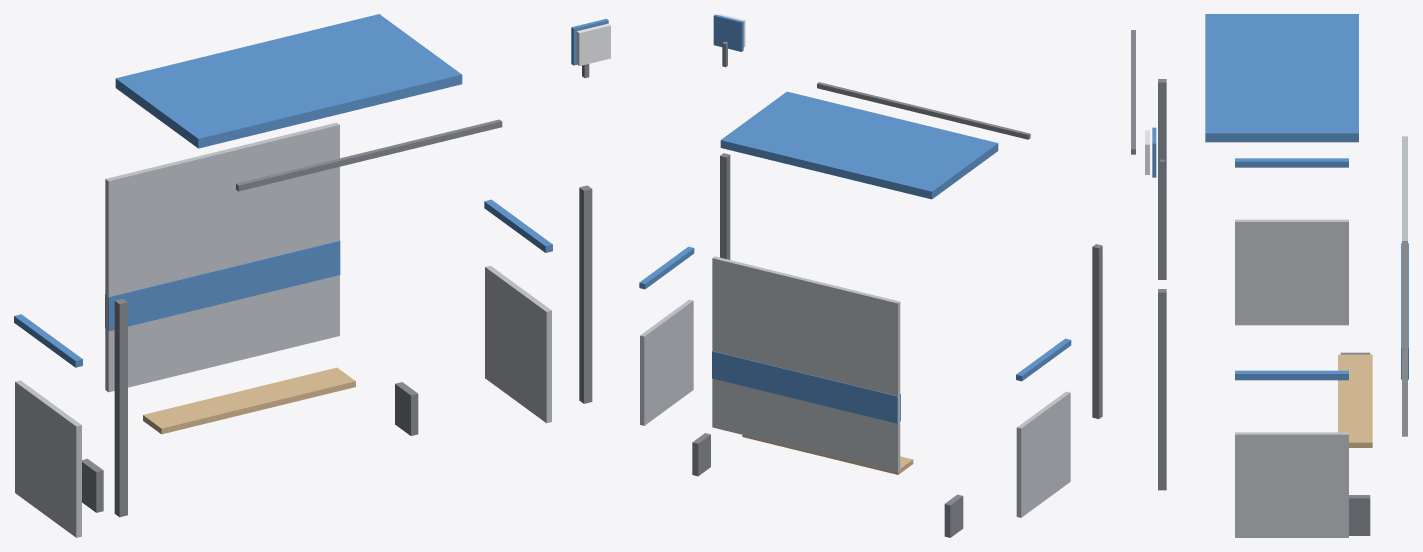
The model's file is th3_bushalte.glb.
3 views of the same model, side by side, from view 1: azimuth 30°, elevation 25°; view 2: azimuth 150°, elevation 25°; view 3: azimuth 270°, elevation 25° (orthographic). The views are drawn at different scales.
Visible parts, largest first — view 1: bushalte; view 2: bushalte; view 3: bushalte.
Part boxes in pixels (box(x1,y1,x2,y2)): bushalte: box(14, 14, 610, 537); bushalte: box(639, 14, 1102, 537); bushalte: box(1131, 14, 1408, 537).
Size of the model in its own units: 2.64 by 2.41 by 1.4.
